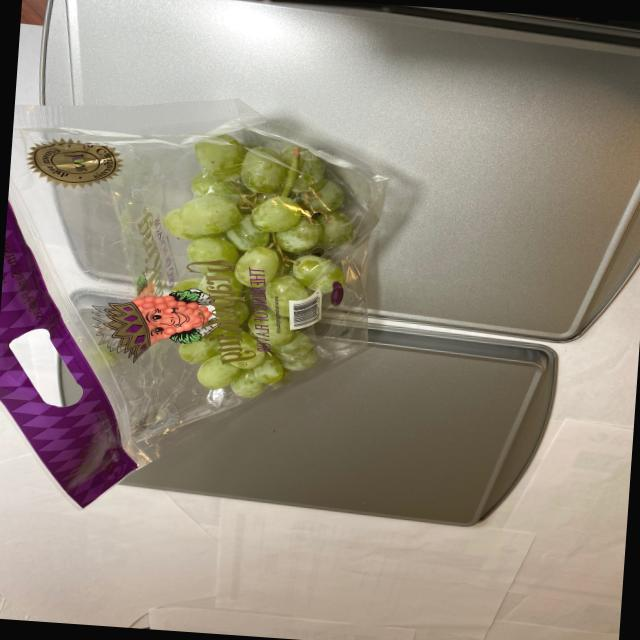grapes: (172, 125, 352, 413)
